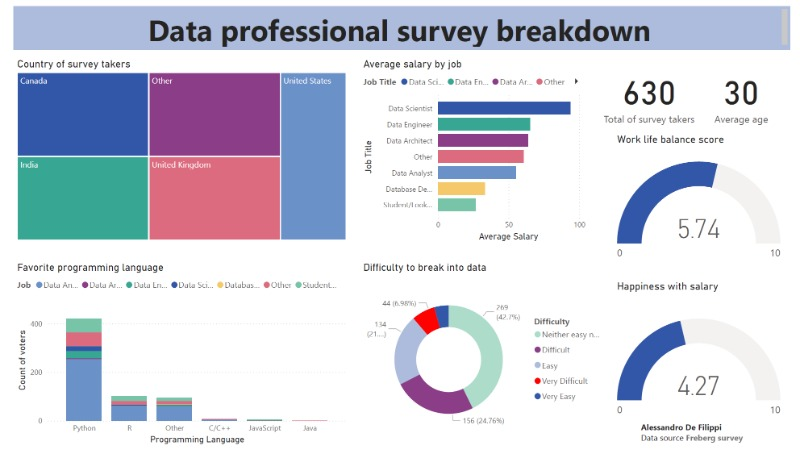

Layout of this report page (visuals, bound fields, positions):
{"tool":"powerbi","page":{"name":"Page 1","canvas":[1280,720],"ordinal":0},"visuals":[{"type":"textbox","box":[9.9,0,1269.6,71],"z":0},{"type":"card","fields":{"Values":["Count(Data Professional Survey.Unique ID)"]},"box":[968.3,84.2,162.4,123.3],"z":1000},{"type":"card","fields":{"Values":["Avg(Data Professional Survey.Q10 - Current Age)"]},"box":[1130.7,84.2,138.3,123.3],"z":2000},{"type":"barChart","title":"Average salary by job","fields":{"Category":["Data Professional Survey.Q1 - Which Title Best Fits your Current Role?.1"],"Y":["Avg(Data Professional Survey.Average Salary)"],"Series":["Data Professional Survey.Q1 - Which Title Best Fits your Current Role?.1"]},"box":[577.4,84.2,372.9,303.7],"z":3000},{"type":"columnChart","title":"Favorite programming language","fields":{"Category":["Data Professional Survey.Q5 - Favorite Programming Language.1"],"Y":["CountNonNull(Data Professional Survey.Unique ID)"],"Series":["Data Professional Survey.Q1 - Which Title Best Fits your Current Role?.1"]},"box":[10.5,416.5,548.8,303.7],"z":4000},{"type":"treemap","title":"Country of survey takers","fields":{"Group":["Data Professional Survey.Q11 - Which Country do you live in?.1"],"Values":["Count(Data Professional Survey.Q11 - Which Country do you live in?.1)"]},"box":[10.5,84.2,548.8,303.7],"z":5000},{"type":"gauge","title":"Happiness with salary","fields":{"Y":["Avg(Data Professional Survey.Q6 - How Happy are you in your Current Position with the following? (Salary))"],"MinValue":["Min(Data Professional Survey.Q6 - How Happy are you in your Current Position with the following? (Salary))"],"MaxValue":["Max(Data Professional Survey.Q6 - How Happy are you in your Current Position with the following? (Salary))"]},"box":[992.3,446.5,276.7,273.6],"z":6000},{"type":"gauge","title":"Work life balance score","fields":{"Y":["Avg(Data Professional Survey.Q6 - How Happy are you in your Current Position with the following? (Work/Life Balance))"],"MinValue":["Min(Data Professional Survey.Q6 - How Happy are you in your Current Position with the following? (Work/Life Balance))"],"MaxValue":["Max(Data Professional Survey.Q6 - How Happy are you in your Current Position with the following? (Work/Life Balance))1"]},"box":[992.3,207.5,276.7,239.1],"z":7000},{"type":"donutChart","title":"Difficulty to break into data","fields":{"Category":["Data Professional Survey.Q7 - How difficult was it for you to break into Data?"],"Y":["CountNonNull(Data Professional Survey.Q7 - How difficult was it for you to break into Data?)"]},"box":[577.4,416.5,409,303.7],"z":8000},{"type":"textbox","box":[1031.4,673.6,197,46.6],"z":9000}]}

Visuals, with their boxes in screenshot pixels (x1, y1, x2, y2), scaled from the page's 1280x720 canvas onto the 800x454 screenshot:
textbox: l=6, t=0, r=799, b=45
card - Count(Data Professional Survey.Unique ID): l=605, t=53, r=707, b=131
card - Avg(Data Professional Survey.Q10 - Current Age): l=707, t=53, r=793, b=131
"Average salary by job" barChart: l=361, t=53, r=594, b=245
"Favorite programming language" columnChart: l=7, t=263, r=350, b=453
"Country of survey takers" treemap: l=7, t=53, r=350, b=245
"Happiness with salary" gauge: l=620, t=282, r=793, b=453
"Work life balance score" gauge: l=620, t=131, r=793, b=282
"Difficulty to break into data" donutChart: l=361, t=263, r=616, b=453
textbox: l=645, t=425, r=768, b=453
